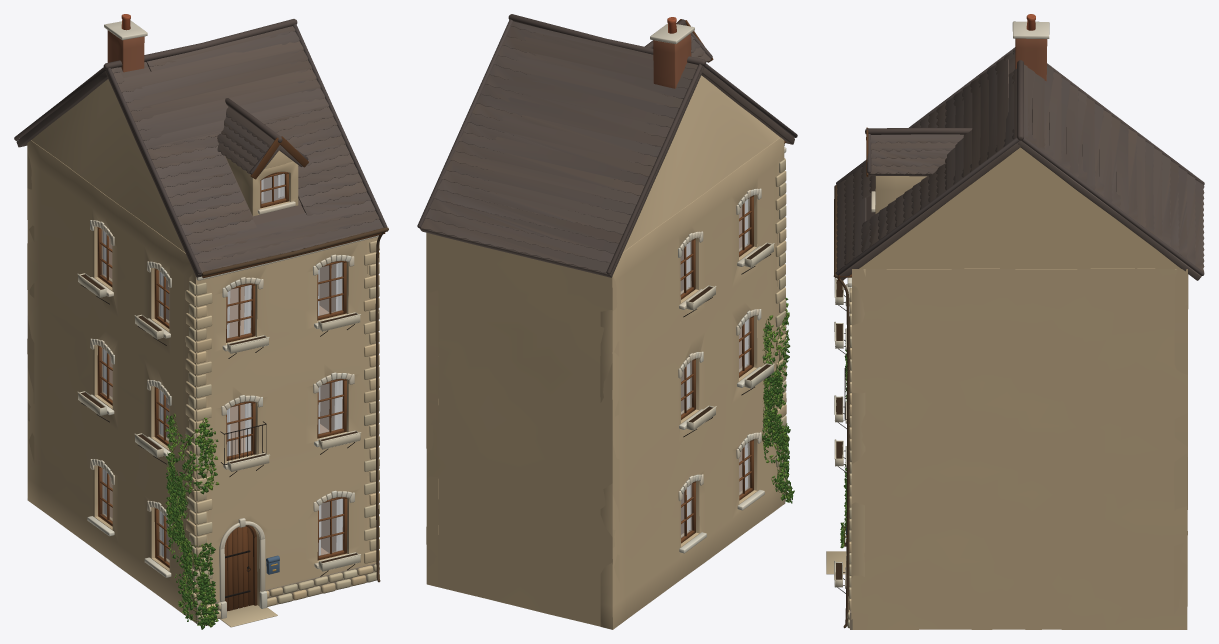
The model's file is Opposite_Opposite2_1.glb.
3 views of the same model, side by side, from view 1: azimuth 30°, elevation 25°; view 2: azimuth 150°, elevation 25°; view 3: azimuth 270°, elevation 25° (orthographic). The views are drawn at different scales.
Visible parts, largest first — view 1: Sammel Quader, Sammel Stein, Sammel Holz, Sammel Putz, Glas, Sammel Pflanze, Sammel Putz innen, Sammel Lack, Vorhang Leinen, Sammel Metall, Sammel Ziegel; view 2: Sammel Quader, Sammel Stein, Sammel Putz, Sammel Pflanze, Sammel Holz, Glas, Sammel Ziegel, Sammel Lack, Vorhang Leinen, Sammel Putz innen; view 3: Sammel Quader, Sammel Stein, Sammel Putz, Sammel Metall, Sammel Ziegel, Sammel Lack.
Part boxes in pixels (x1,y1,x2,y2): Sammel Quader: (27,79,378,623); Sammel Stein: (14,19,387,627); Sammel Holz: (97,136,385,611); Sammel Putz: (81,14,379,625); Glas: (101,174,342,562); Sammel Pflanze: (165,413,219,629); Sammel Putz innen: (109,238,336,559); Sammel Lack: (77,273,361,574); Vorhang Leinen: (103,174,342,556); Sammel Metall: (81,227,388,597); Sammel Ziegel: (107,30,144,72); Sammel Quader: (426,75,784,629); Sammel Stein: (417,14,797,500); Sammel Putz: (650,17,791,553); Sammel Pflanze: (762,298,794,503); Sammel Holz: (677,19,786,543); Glas: (681,198,749,537); Sammel Ziegel: (653,33,691,88); Sammel Lack: (686,242,774,430); Vorhang Leinen: (686,199,748,531); Sammel Putz innen: (680,206,742,534); Sammel Quader: (851,147,1188,629); Sammel Stein: (826,47,1204,628); Sammel Putz: (835,14,1049,629); Sammel Metall: (833,185,849,628); Sammel Ziegel: (1015,38,1047,81); Sammel Lack: (834,278,846,587).
Bounding box in the file's own units: 5.49 × 14.14 × 9.01.
